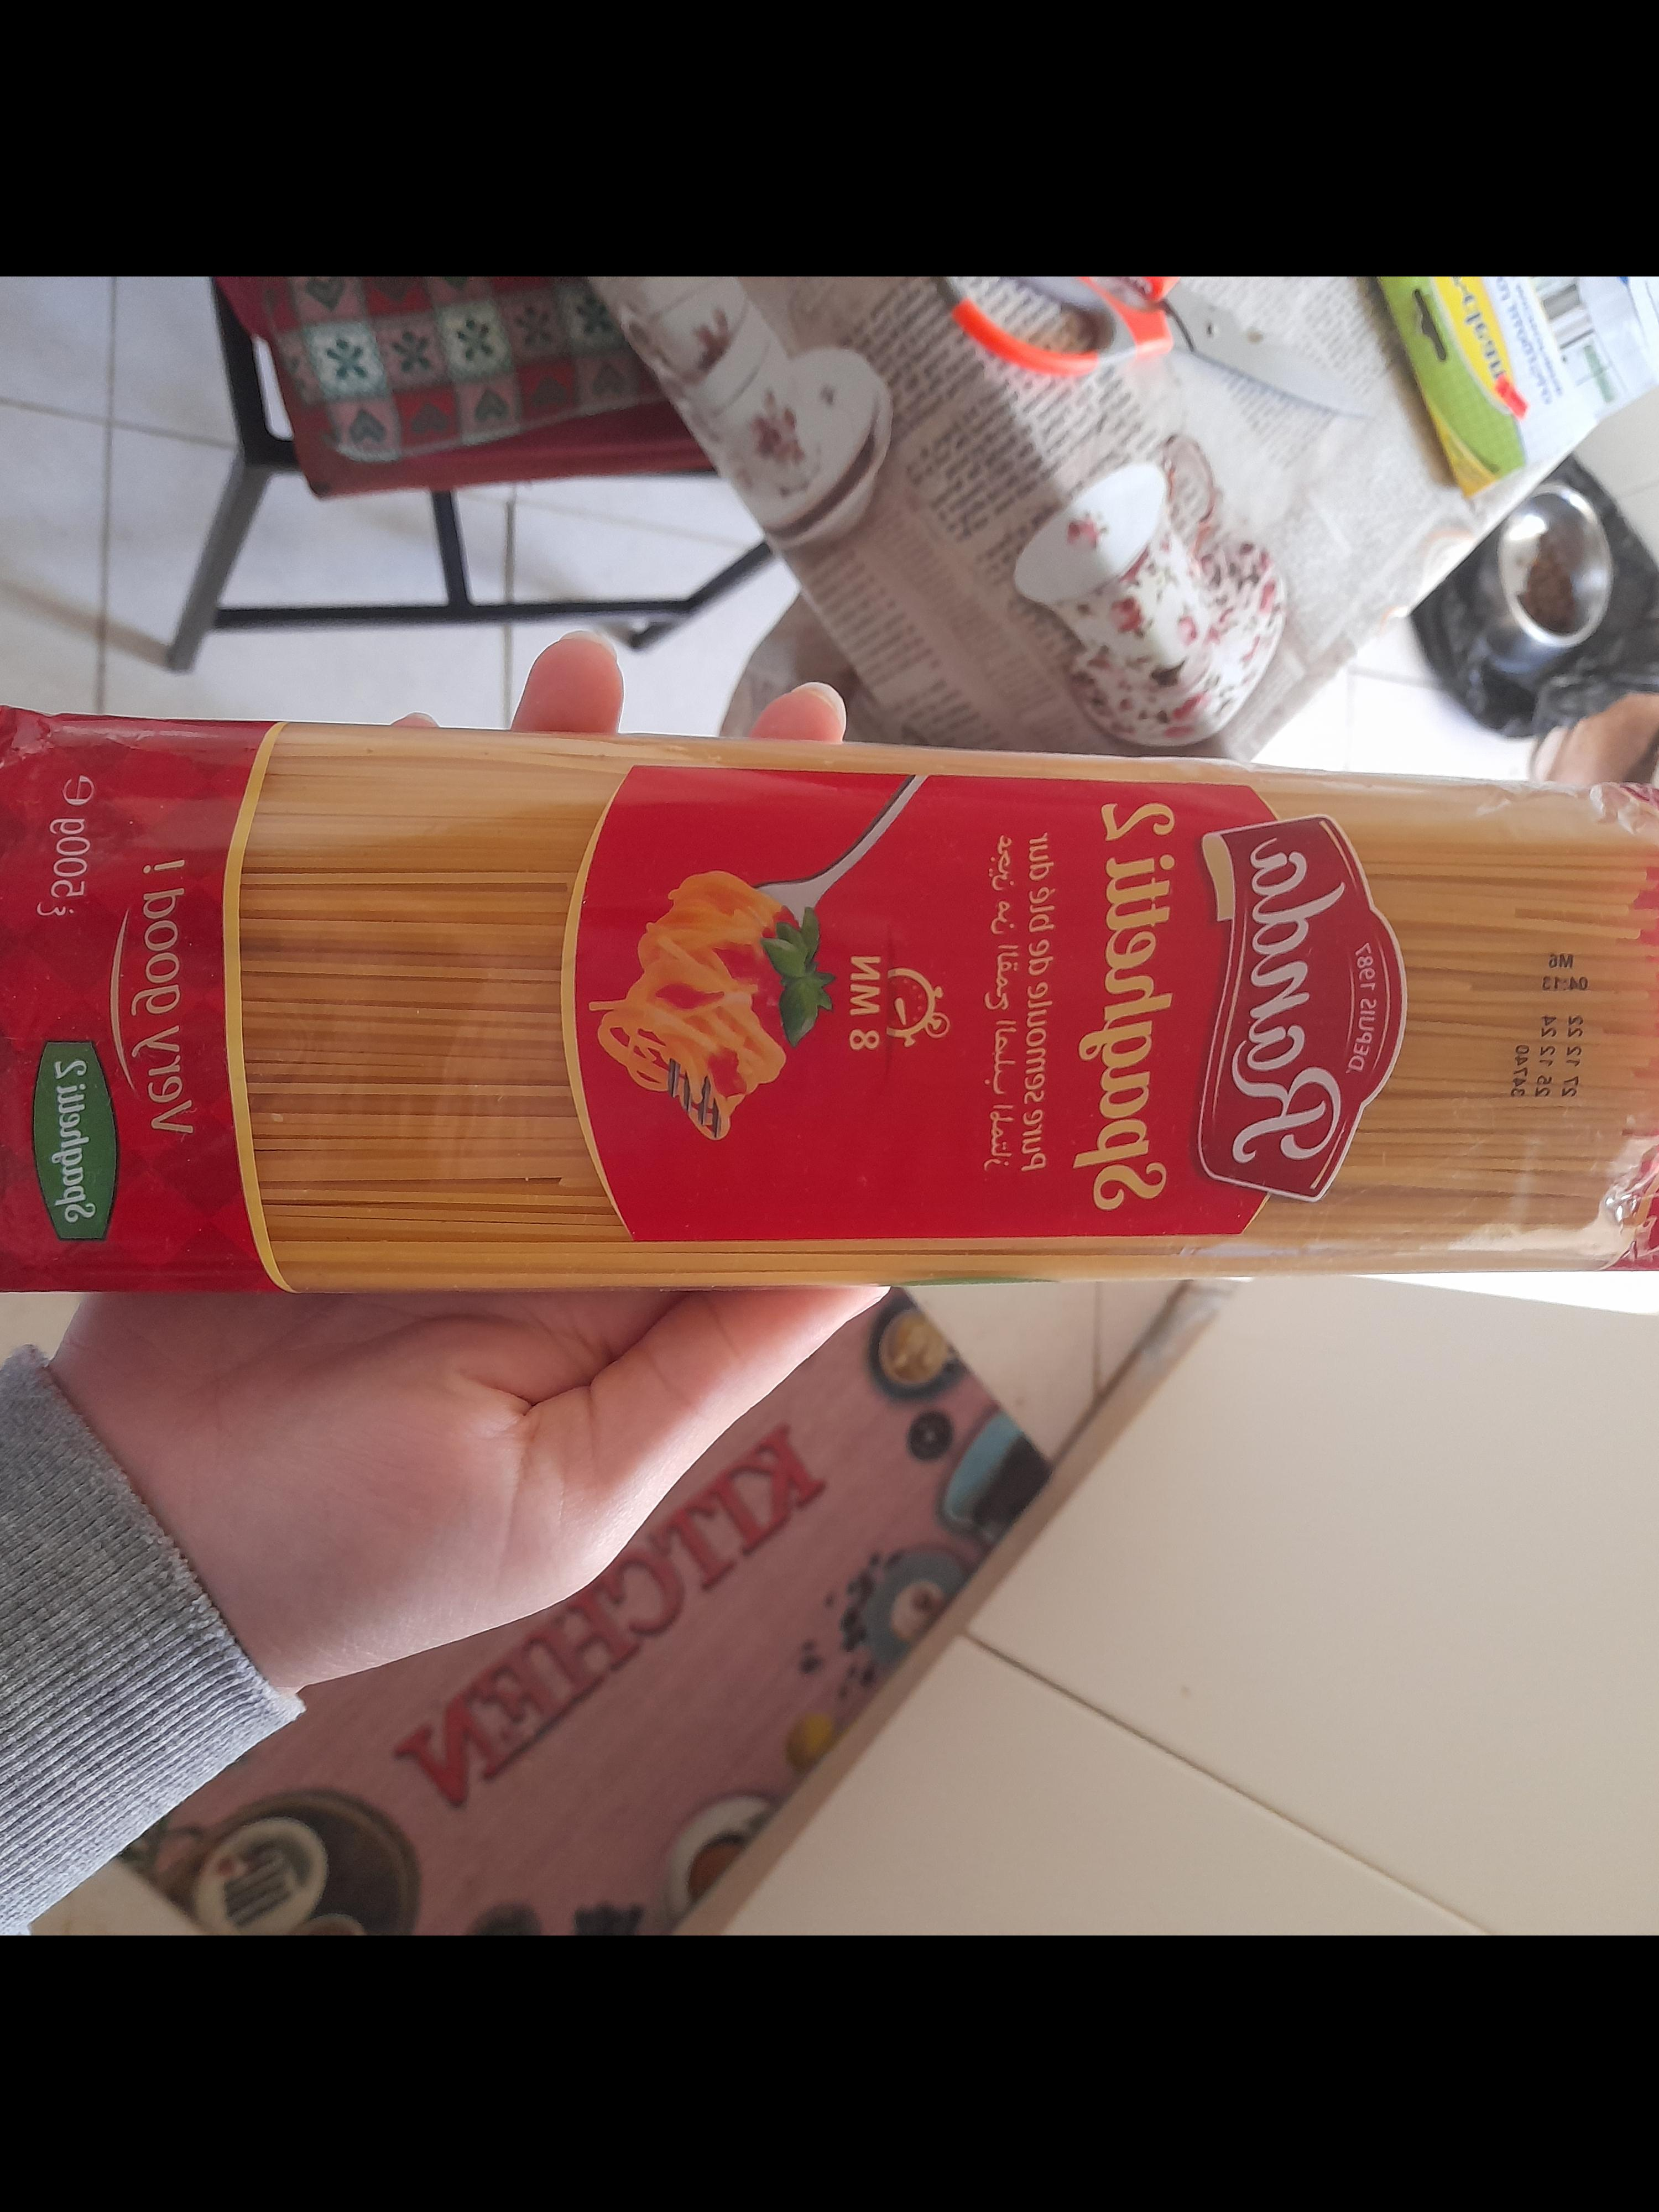Spaghetti: (1086, 1345, 1659, 1601)
